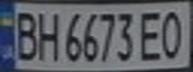3: (115, 8, 139, 62)
6: (60, 9, 84, 63), (78, 8, 100, 63)
7: (97, 9, 118, 62)
B: (9, 7, 42, 62)
E: (136, 8, 166, 62)
H: (33, 8, 60, 62)
O: (157, 7, 190, 61)
